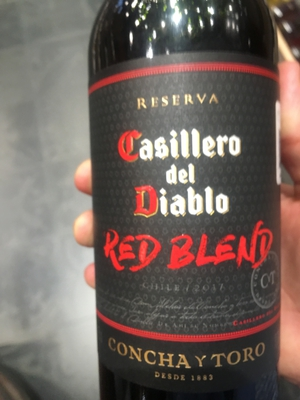casillero del diablo red blend: (80, 33, 283, 394)
